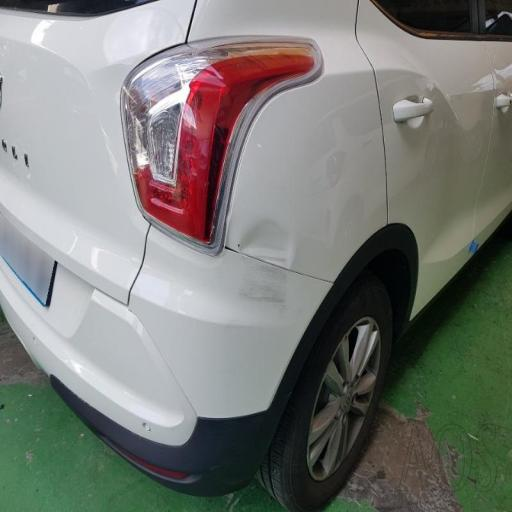dent: (145, 86, 329, 352)
